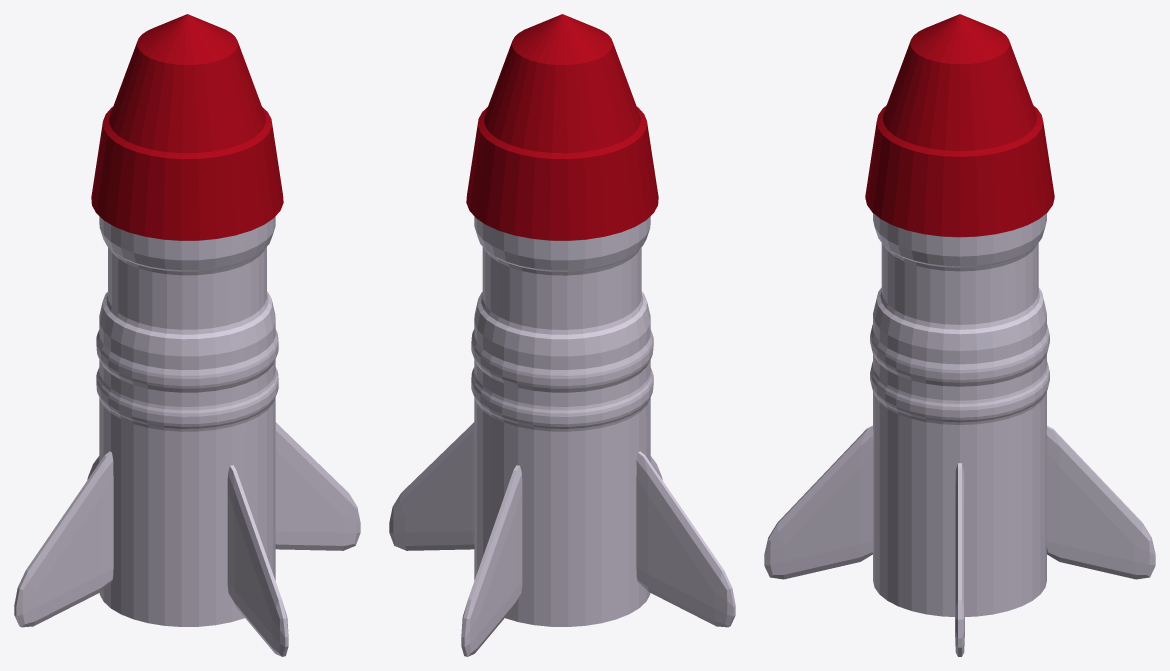
The model's file is Rocket.fbx.
3 views of the same model, side by side, from view 1: azimuth 30°, elevation 25°; view 2: azimuth 150°, elevation 25°; view 3: azimuth 270°, elevation 25° (orthographic).
Parts seen in each view (by area): view 1: Main, Wing; view 2: Main, Wing; view 3: Main, Wing.
Boxes of the visible parts, <box> form: Main: <box>91,14,283,626</box>; Wing: <box>14,422,360,656</box>; Main: <box>466,14,658,626</box>; Wing: <box>389,422,735,656</box>; Main: <box>865,14,1054,616</box>; Wing: <box>764,425,1155,656</box>.
Size of the model in its own units: 449 by 718 by 449.
